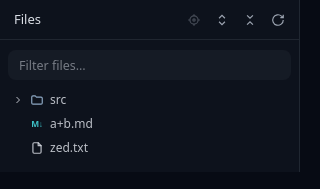
it: the filter hides non-matching files but keeps folders
In the search field: (150, 65) [8,50,291,80], type "main"
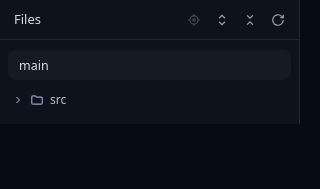
Check: the button "src" is shown, box [6,88,293,112]
Check: the button "zed.txt" is gone
